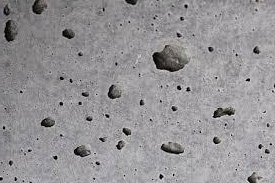Spalling: (1, 1, 275, 183)
